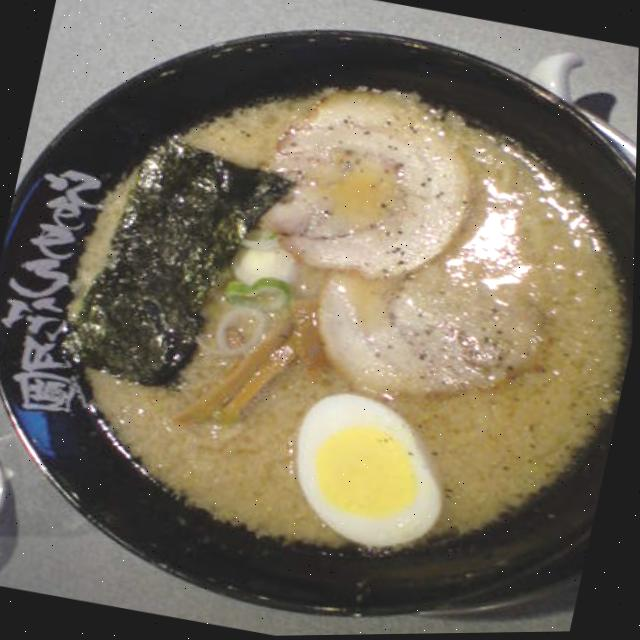面条主食: (0, 12, 640, 607)
